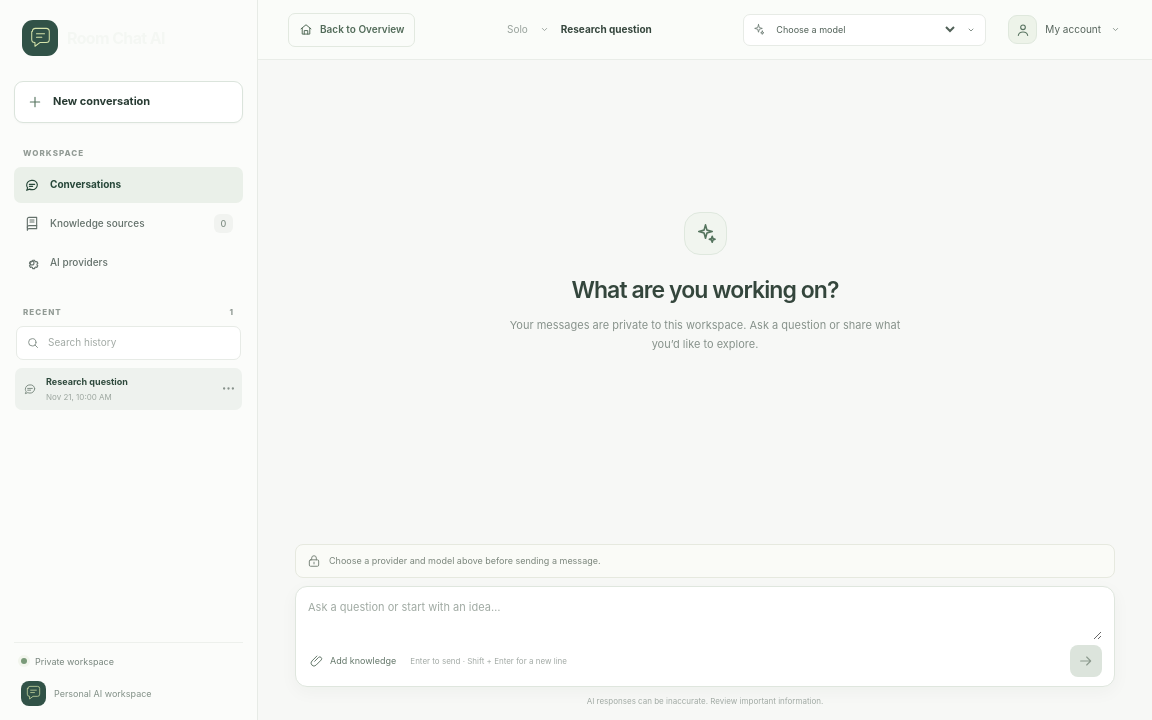
Scenario: Solo workspace › keeps failed requests generic and reloads the persisted user message
This screenshot has width=1152, height=720.
Check: the text box named "Message Room Chat AI" is shown, box [308,598,1102,640]
Select "openai · gpt-4.1-mini · Personal OpenAI" in the dropdown named "Conversation model" at (865, 30), box [772,23,958,36]
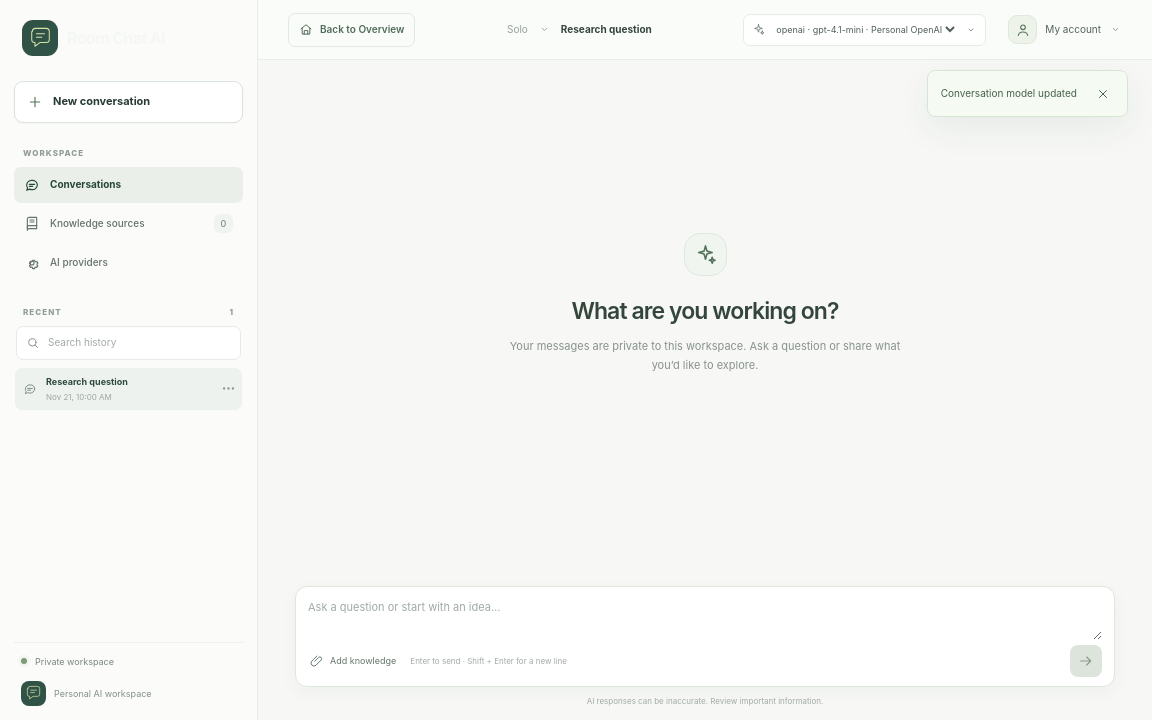
Type "Keep my question" into the text box named "Message Room Chat AI".
click(705, 619); type("Keep my question")  # box [308,598,1102,640]
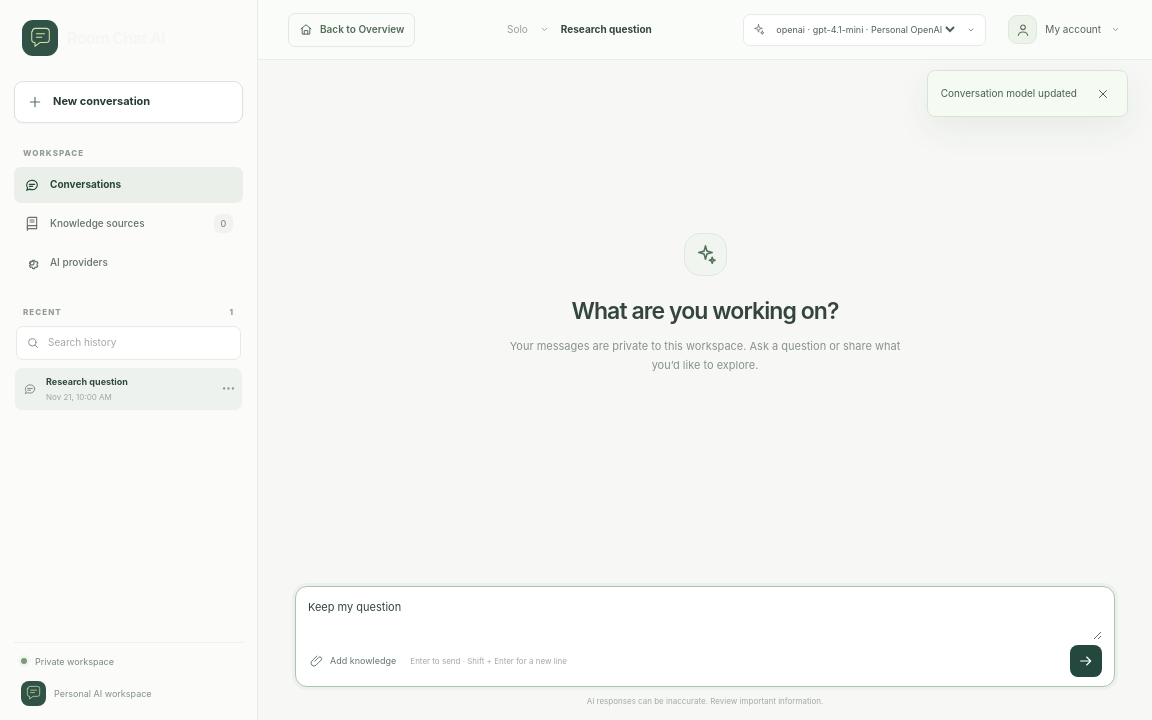
Click the button named "Send message".
click(1086, 661)  # box [1070,645,1102,677]
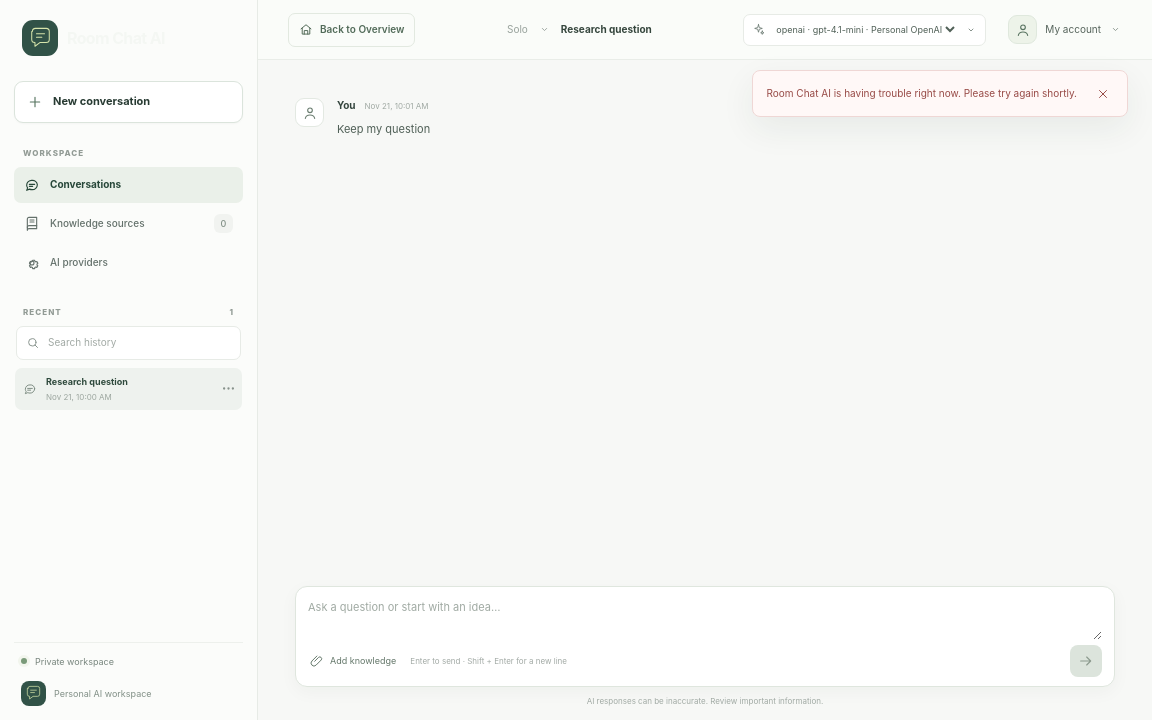
Check: the message does not show "internal trace", box [752,70,1128,117]
Check: the text "Keep my question" is shown, box [337,122,430,136]
Check: the message shows "trouble right now", box [766,87,1077,99]
